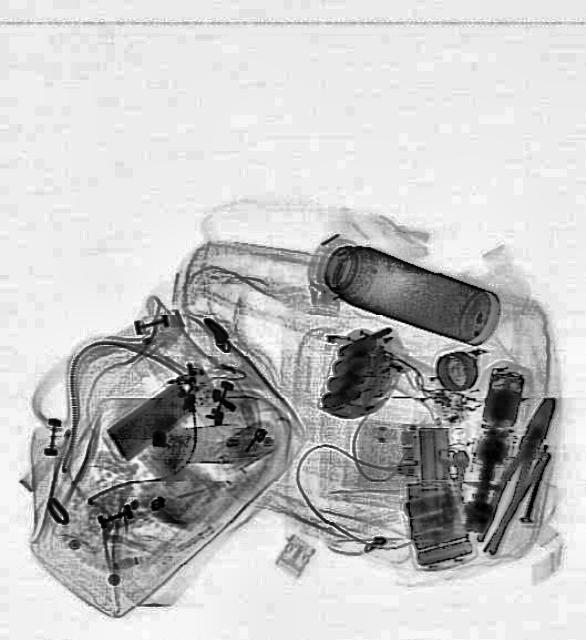Pliers: (468, 390, 564, 556)
